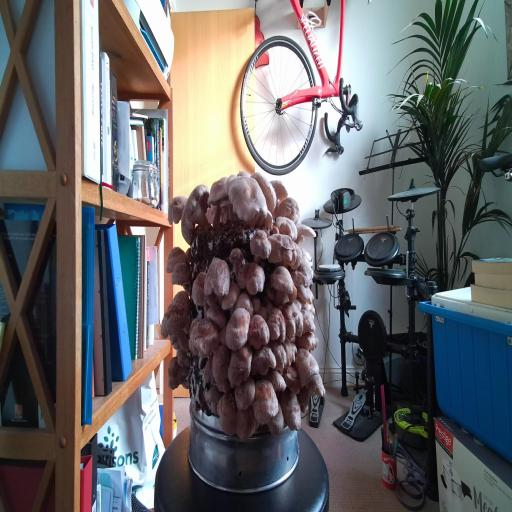Shiitake Mushroom: (207, 161, 287, 235), (163, 175, 229, 248), (174, 308, 235, 370), (213, 298, 263, 361), (198, 167, 238, 230), (244, 370, 284, 431), (157, 296, 198, 354), (231, 251, 272, 306), (245, 161, 285, 214), (286, 338, 325, 392), (283, 251, 322, 299), (263, 258, 299, 310), (227, 398, 264, 447), (276, 382, 307, 437), (223, 341, 258, 389), (213, 388, 244, 441), (279, 296, 308, 345), (161, 354, 192, 399), (230, 373, 262, 415), (157, 240, 195, 275), (261, 402, 294, 442), (162, 185, 190, 231), (199, 298, 235, 332), (216, 276, 245, 318), (209, 341, 232, 392), (279, 359, 306, 401), (269, 211, 305, 242), (267, 231, 298, 267), (248, 342, 278, 379), (247, 224, 274, 265), (223, 241, 251, 278), (204, 257, 230, 296), (263, 363, 291, 399), (190, 272, 210, 322), (247, 313, 271, 352), (274, 284, 303, 315), (303, 370, 328, 405), (201, 381, 224, 416), (268, 171, 290, 206), (171, 344, 195, 376), (167, 288, 197, 313), (287, 242, 309, 276), (170, 259, 191, 293), (273, 197, 300, 223), (267, 307, 286, 343), (293, 329, 321, 351), (234, 290, 256, 317), (271, 340, 287, 375), (294, 382, 313, 411), (293, 282, 318, 304), (218, 195, 236, 225), (292, 222, 320, 241), (201, 356, 216, 388), (165, 329, 184, 354), (282, 335, 296, 367), (291, 297, 317, 314), (301, 307, 316, 333), (262, 210, 276, 231), (258, 305, 269, 321), (237, 169, 252, 177)
